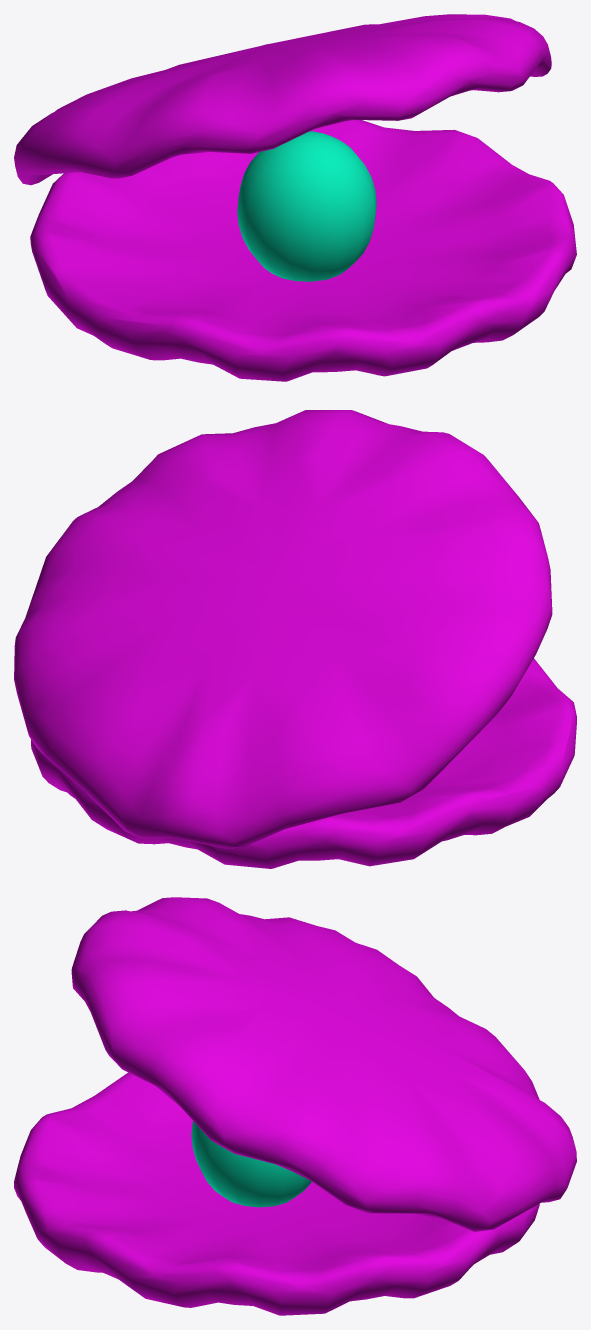
File: Shell.fbx
3 views of the same model, one above another, from view 1: azimuth 30°, elevation 25°; view 2: azimuth 150°, elevation 25°; view 3: azimuth 270°, elevation 25° (orthographic). The views are drawn at different scales.
Parts seen in each view (by area): view 1: Shell, SphereShell; view 2: Shell; view 3: Shell, SphereShell.
Boxes of the visible parts, left/top/right/bottom form: Shell: left=14, top=14, right=576, bottom=381; SphereShell: left=237, top=131, right=376, bottom=281; Shell: left=14, top=410, right=576, bottom=868; Shell: left=14, top=897, right=576, bottom=1315; SphereShell: left=191, top=1121, right=311, bottom=1207.
Bounding box in the file's own units: 28.05 × 17.29 × 29.81.
